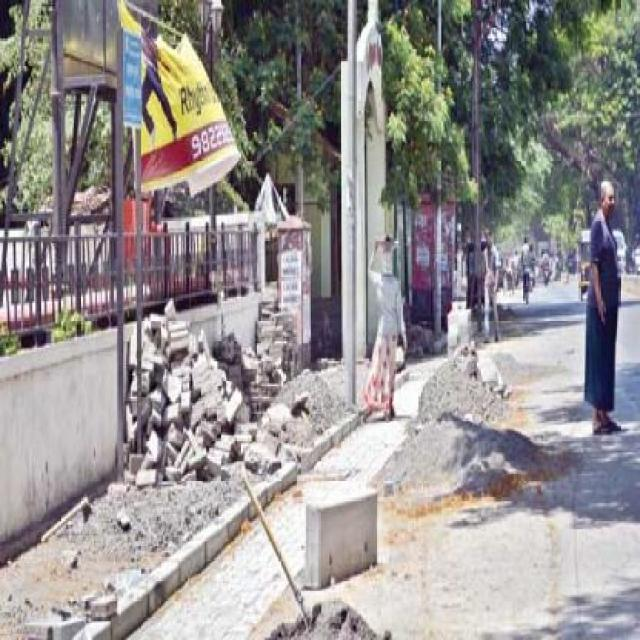garbage: (155, 311, 342, 452), (246, 462, 390, 639), (34, 471, 216, 550), (409, 346, 504, 457)
